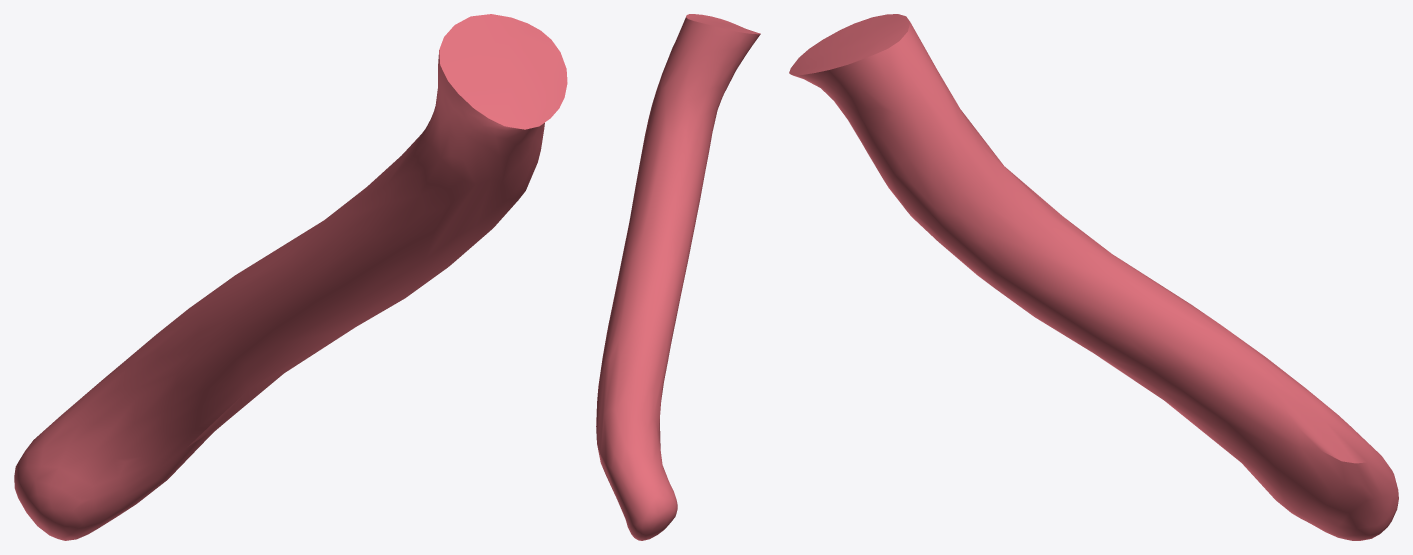
File: fma51243_mm3622.glb
3 views of the same model, side by side, from view 1: azimuth 30°, elevation 25°; view 2: azimuth 150°, elevation 25°; view 3: azimuth 270°, elevation 25° (orthographic). The views are drawn at different scales.
Visible parts, largest first — view 1: FMA51243_MM3622; view 2: FMA51243_MM3622; view 3: FMA51243_MM3622.
Boxes of the visible parts, bbox=[...] form: FMA51243_MM3622: bbox=[14, 14, 567, 540]; FMA51243_MM3622: bbox=[596, 14, 760, 540]; FMA51243_MM3622: bbox=[789, 14, 1398, 540].
Bounding box in the file's own units: 0.0173 × 0.0415 × 0.0394.
